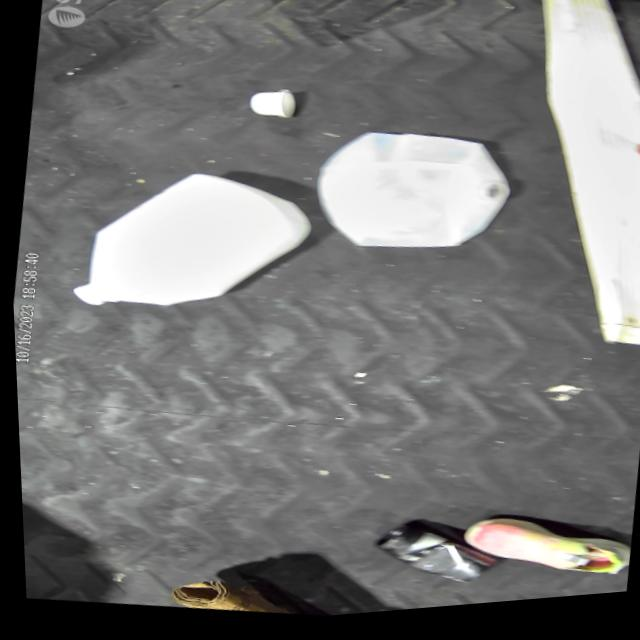can: (638, 160, 640, 217)
milk_jug: (57, 151, 320, 339), (305, 121, 518, 276)
plastic_bottle: (632, 92, 640, 173)
